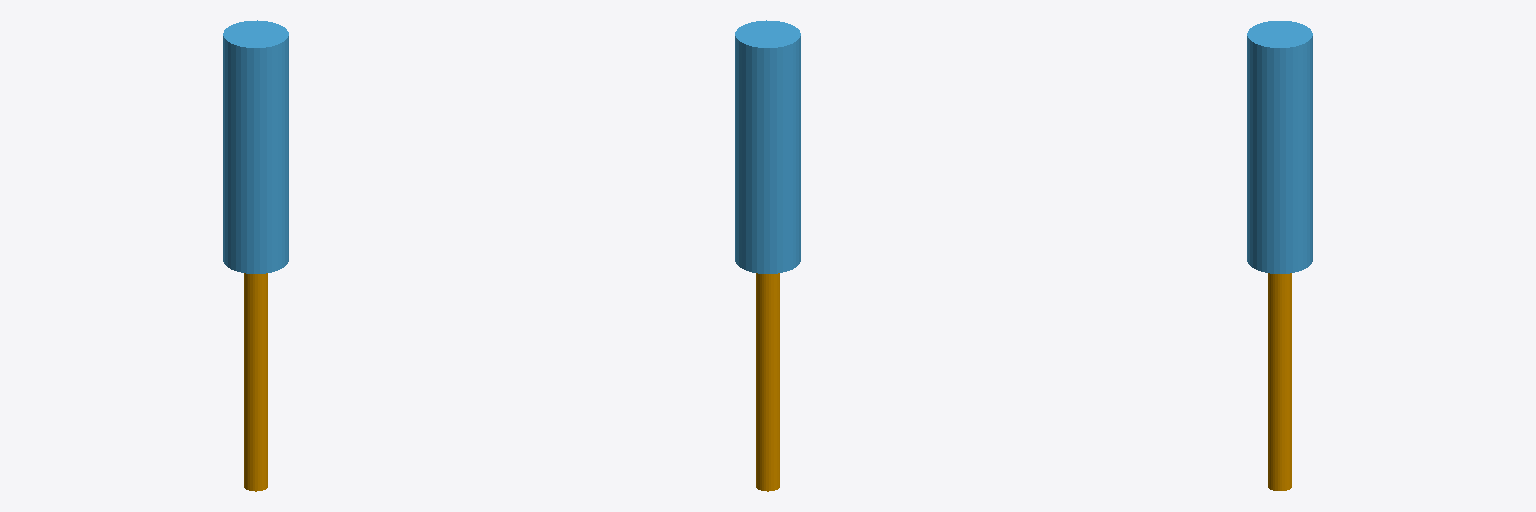
robot.urdf — screwdriver_on_the_table:
<?xml version="1.0" ?>
<!-- this is the one without any virtual joints and links -->
<robot name="screwdriver_on_the_table">
<link name="screwdriver_stick">
    <inertial>
      <mass value="0.05"/>
      <!-- <friction value="1.0"/> -->
      <inertia ixx="0.000041979" ixy="0.0" ixz="0.0" iyy="0.000041979" iyz="0.0" izz="0.000000625"/>
    </inertial>
    <visual>
        <origin rpy="0 0 0" xyz="0 0 0.05"/>
        <geometry>
            <cylinder radius="0.005" length="0.1"/>
        </geometry>
        <!-- <material name="White">
	 	    <color rgba="0.9 0.9 0.9 0.5"/>
        </material> -->
    </visual>
    <collision>
        <origin rpy="0 0 0" xyz="0 0 0.05"/>
        <geometry>
            <cylinder radius="0.005" length="0.1"/>
        </geometry>
    </collision>
</link>

<gazebo reference="screwdriver_body">
    <mu1>1.346920</mu1>
    <mu2>0.807766</mu2>
    <!-- Isaac Sim maps mu1/mu2 to PhysX static/dynamic friction during URDF→USD import -->
</gazebo>

<joint name="screwdriver_stick_body_joint" type="fixed">
    <parent link="screwdriver_stick"/>
    <child link="screwdriver_body"/>
    <origin rpy="0 0 0" xyz="0 0 0.1"/> 
    <axis xyz="0 0 1"/>
</joint>

<link name="screwdriver_body">
    <inertial>
      <mass value="0.089758"/>
      <inertia ixx="0.000078695" ixy="0.0" ixz="0.0" iyy="0.000078695" iyz="0.0" izz="0.000010000"/>
    </inertial>
    <visual>
        <origin rpy="0 0 0" xyz="0 0 0.05"/>
        <geometry>
            <cylinder radius="0.013177" length="0.1"/>
        </geometry>
        <!-- <material name="Red1">
	 	    <color rgba="0.9 0. 0. 0.5"/>
        </material> -->
    </visual>
    <collision>
        <origin rpy="0 0 0" xyz="0 0 0.05"/>
        <geometry>
            <cylinder radius="0.013177" length="0.1"/>
        </geometry>
    </collision>
</link>

<!-- <joint name="screwdriver_body_cap_joint" type="revolute">
    <parent link="screwdriver_body"/>
    <child link="screwdriver_cap"/>
    <origin rpy="0 0 0" xyz="0 0 0.1"/> 
    <axis xyz="0 0 1"/>
</joint>

<link name="screwdriver_cap">
    <inertial>
      <mass value="0.005"/>
      <inertia ixx="0.00001" ixy="0.0" ixz="0.0" iyy="0.000005" iyz="0.0" izz="0.000005"/>
    </inertial>
    <visual>
        <origin rpy="0 0 0" xyz="0 0 0.0006"/>
        <geometry>
            <cylinder radius="0.02" length="0.001"/>
        </geometry>
        <material name="Yellow">
	 	    <color rgba="0.9 0.9 0. 1.0"/>
        </material>
    </visual>
    <collision>
        <origin rpy="0 0 0" xyz="0 0 0.0005"/>
        <geometry>
            <cylinder radius="0.02" length="0.001"/>
        </geometry>
    </collision>
</link> -->

</robot>

--- What the picture shows (computed from the rendered views, not written in the file) ---
The picture shows the robot from 3 angles, left to right: view 1: azimuth 30°, elevation 25°; view 2: azimuth 150°, elevation 25°; view 3: azimuth 270°, elevation 25°; orthographic projection.
Model screwdriver_on_the_table with 2 links and 1 joints (1 fixed), rooted at screwdriver_stick, posed every joint at zero.
Visible links, largest first — view 1: screwdriver_body, screwdriver_stick; view 2: screwdriver_body, screwdriver_stick; view 3: screwdriver_body, screwdriver_stick.
Boxes of the visible links, bbox=[...] form: screwdriver_body: bbox=[223, 20, 288, 273]; screwdriver_stick: bbox=[244, 273, 267, 491]; screwdriver_body: bbox=[735, 20, 800, 273]; screwdriver_stick: bbox=[756, 273, 779, 491]; screwdriver_body: bbox=[1247, 21, 1312, 273]; screwdriver_stick: bbox=[1268, 273, 1291, 490].
Size in the robot's own frame: 0.0264 by 0.0264 by 0.2 metres.
Geometry: primitives only (box / cylinder / sphere), no mesh files.
